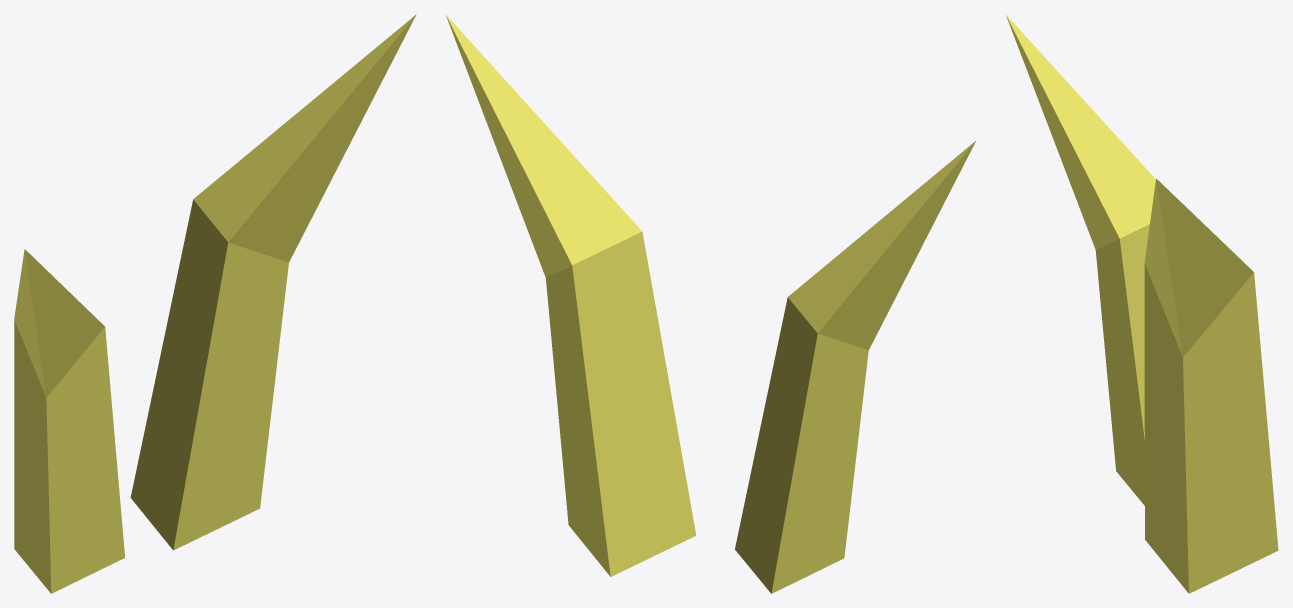
File: DeadGrass4.fbx
The picture shows the model from 3 angles, left to right: view 1: azimuth 30°, elevation 25°; view 2: azimuth 150°, elevation 25°; view 3: azimuth 270°, elevation 25°; orthographic projection. The views are drawn at different scales.
Visible parts, largest first — view 1: Circle.020; view 2: Circle.020; view 3: Circle.020.
Boxes of the visible parts, x1,y1,x2,y2 form: Circle.020: (14,14,416,593); Circle.020: (445,14,975,593); Circle.020: (1005,14,1278,593).
Size of the model in its own units: 109 by 106 by 53.73.
